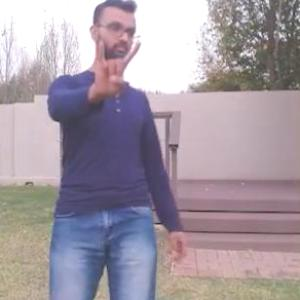takeoff-hand: (84, 32, 145, 102)
